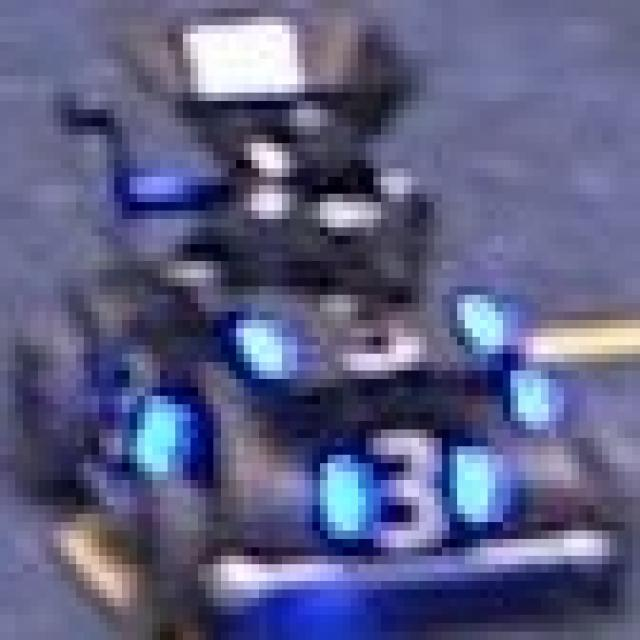B3: (312, 413, 488, 547)
